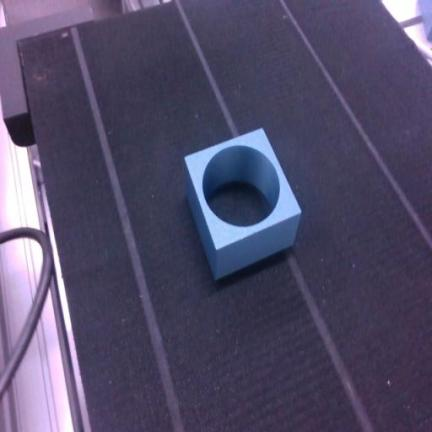hole: (185, 130, 301, 279)
